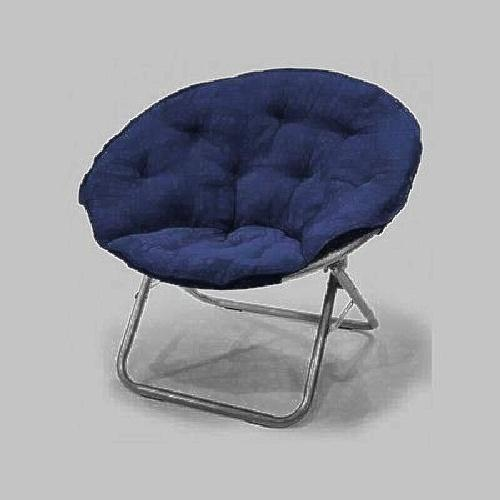chair: (93, 70, 406, 413)
